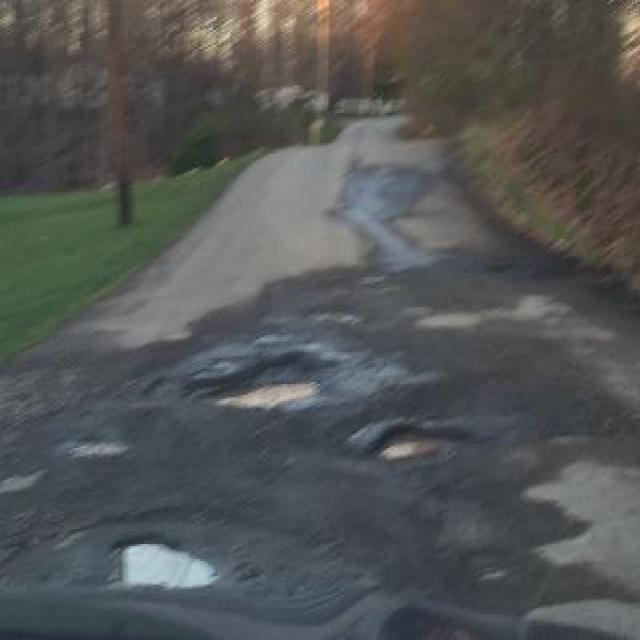pothole: (192, 348, 338, 410), (108, 529, 225, 593), (378, 604, 510, 638), (369, 420, 468, 465), (67, 430, 130, 454)
